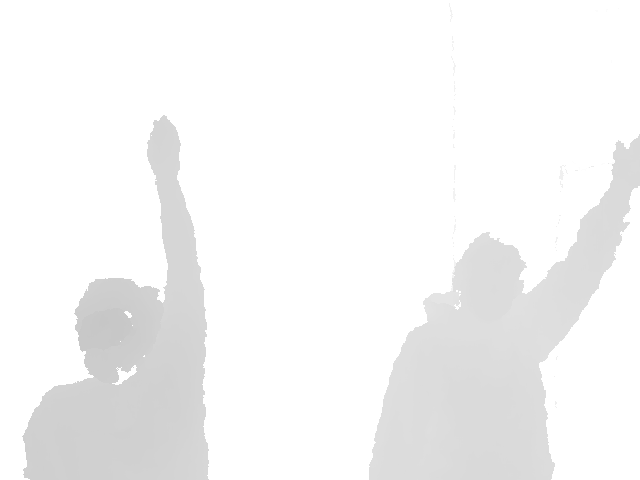hand: (145, 114, 181, 187), (610, 132, 640, 201)
head: (75, 277, 163, 382), (451, 233, 526, 327)
person: (366, 132, 640, 480), (21, 115, 211, 480)
